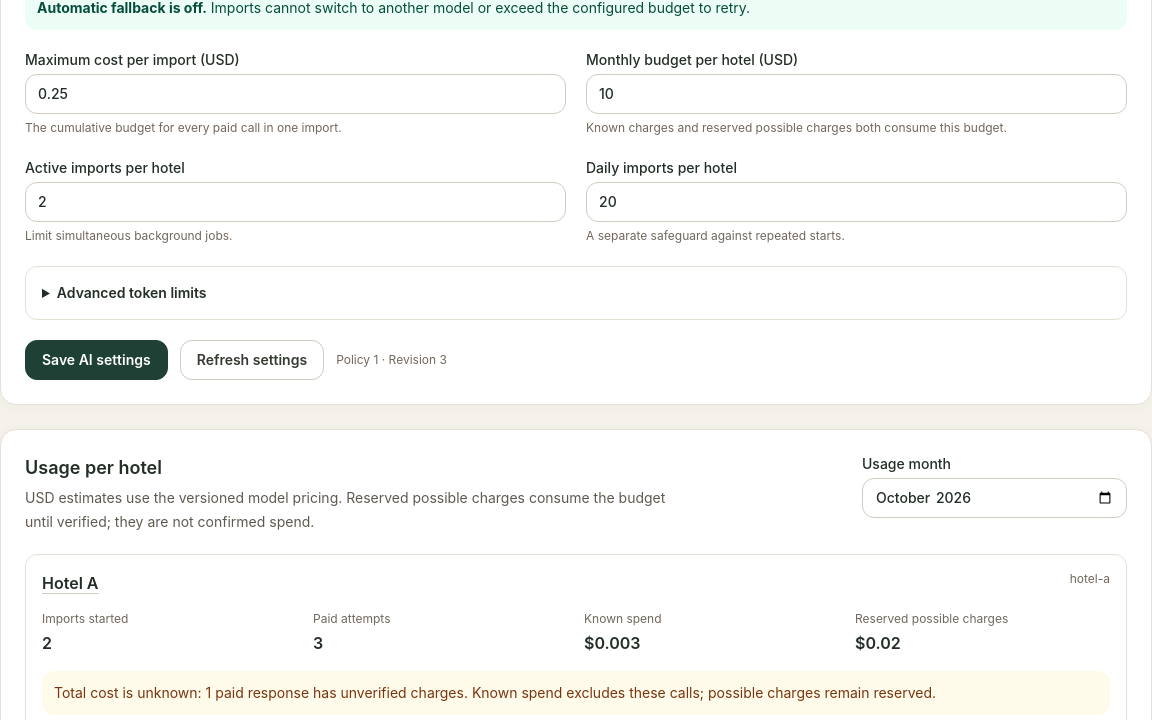
preserves an uncertain save's exact command and prevents changing its contents before retry
This screenshot has width=1152, height=720.
(page scrolled)
Click the button "Save AI settings" at [96, 360], box [25,340,168,380]
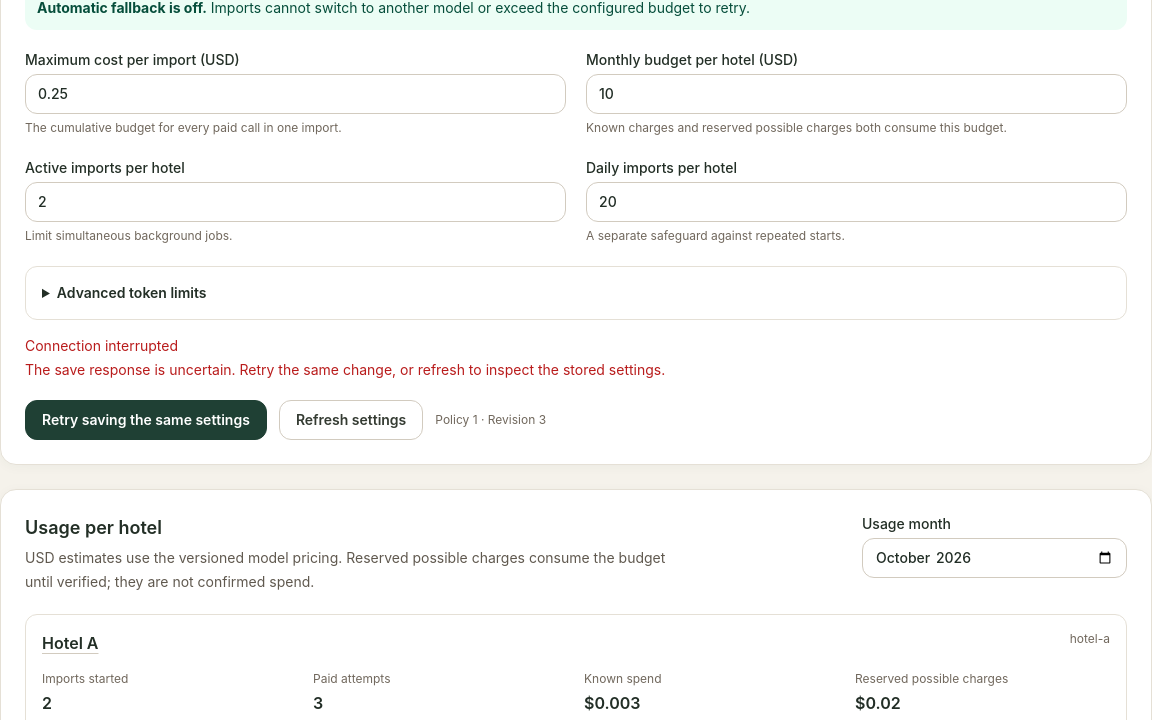
Expected: the number field labelled "Maximum cost per import (USD)" is disabled, [25,74,566,114]
Expected: the text "Connection interrupted" is shown, [25,337,178,354]
Click the button "Retry saving the same settings" at [146, 420], box [25,400,267,440]
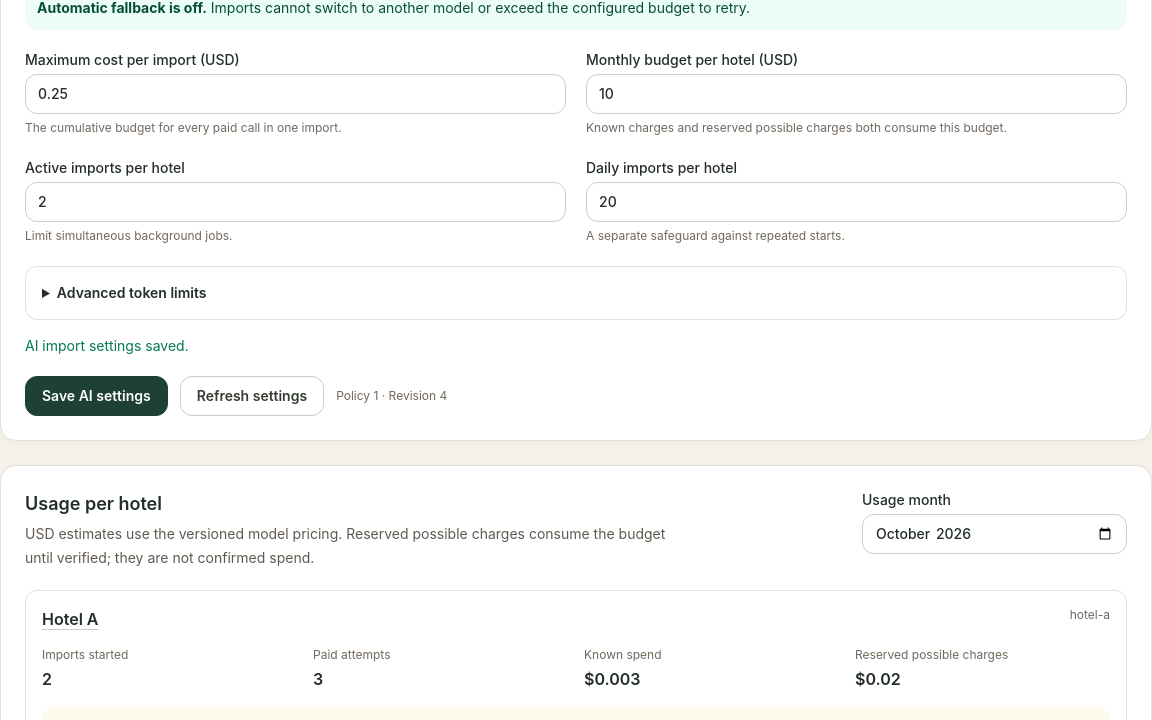
Expected: the text "AI import settings saved." is shown, [25,337,189,354]
